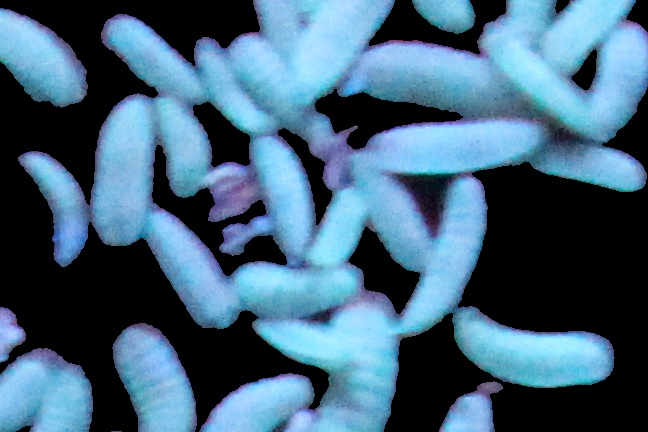larvae: (395, 171, 487, 339), (452, 301, 616, 388), (480, 25, 600, 135), (345, 40, 514, 118), (316, 292, 403, 432), (285, 1, 396, 96), (150, 208, 233, 330), (89, 98, 155, 243), (112, 322, 198, 432), (362, 120, 545, 169), (21, 146, 92, 266), (190, 35, 271, 137), (1, 6, 87, 102), (233, 260, 365, 321), (102, 16, 200, 98), (242, 134, 311, 246), (226, 32, 306, 124), (540, 1, 635, 75), (364, 169, 431, 273), (591, 20, 648, 142), (201, 371, 315, 432), (540, 136, 647, 195), (152, 102, 211, 194), (252, 314, 354, 367), (1, 349, 66, 432), (311, 179, 368, 268), (39, 364, 97, 432)
